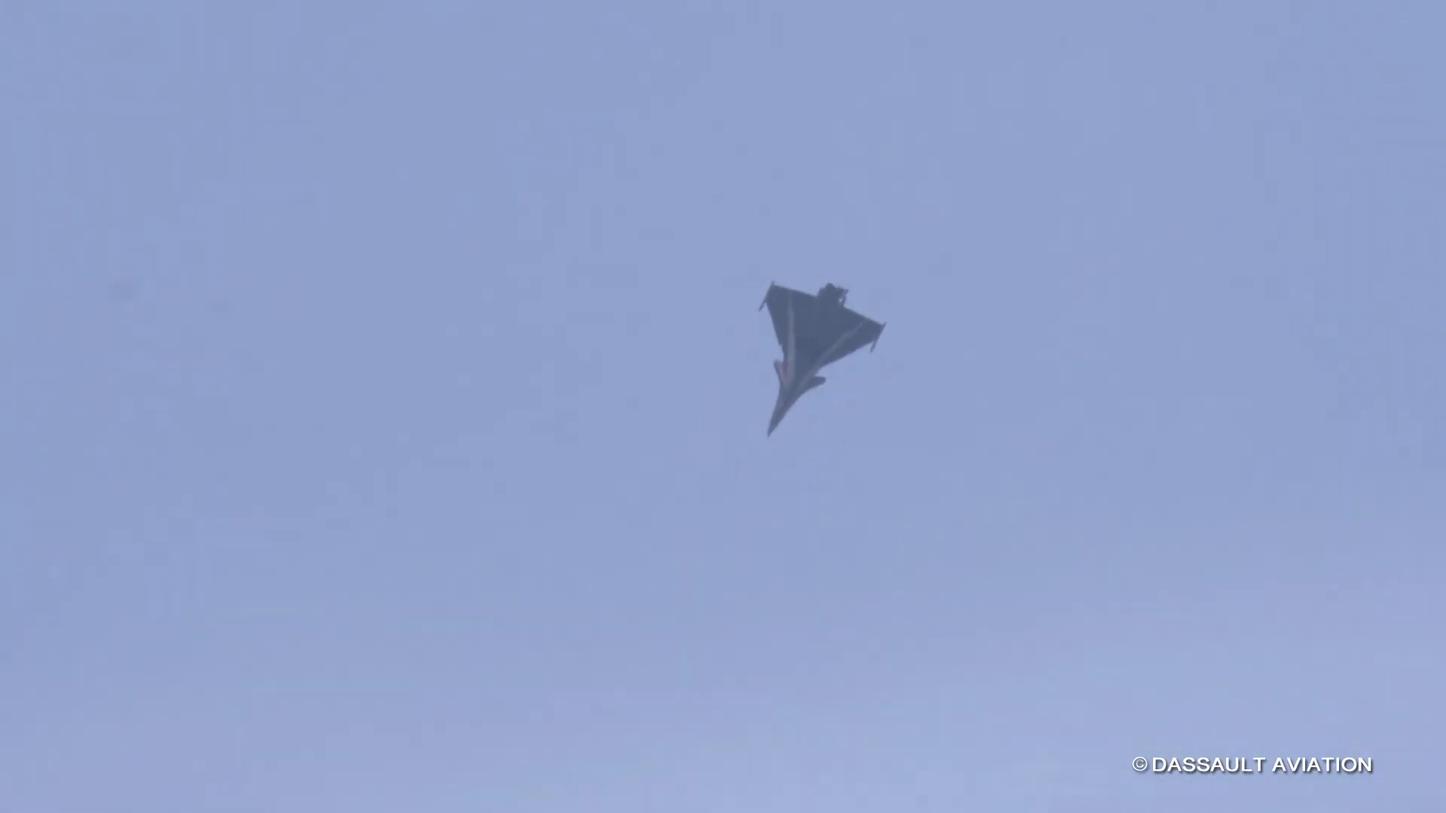Rafale: (747, 270, 891, 453)
